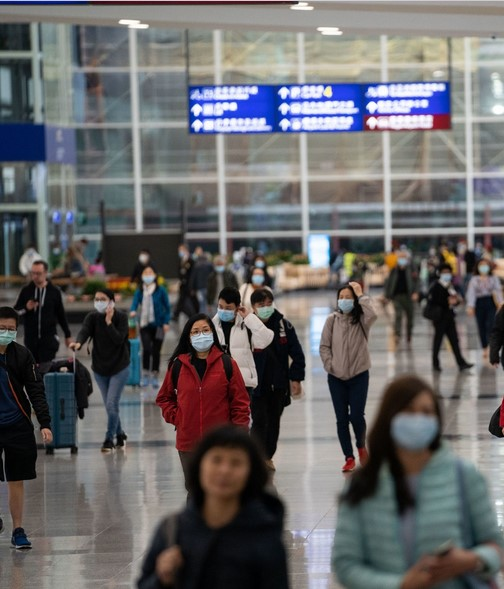face_no_mask: (186, 427, 268, 500), (28, 260, 52, 287)
face_with_mask: (374, 376, 441, 456), (184, 315, 214, 351), (89, 285, 117, 317), (1, 308, 22, 347), (217, 292, 243, 323), (252, 290, 274, 320), (138, 260, 160, 287), (337, 285, 358, 311)
